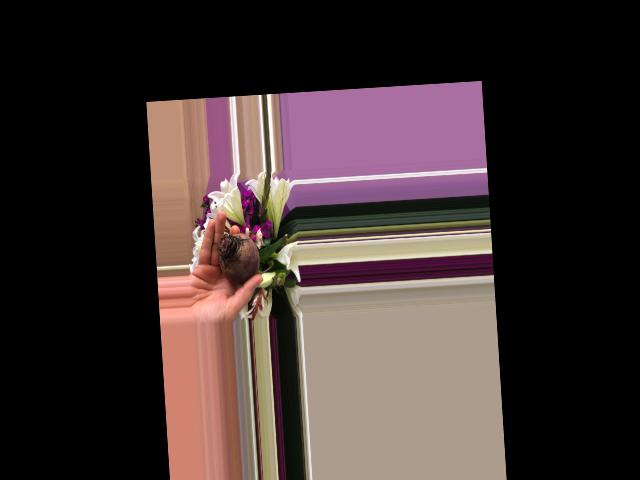beet: (217, 230, 273, 286)
